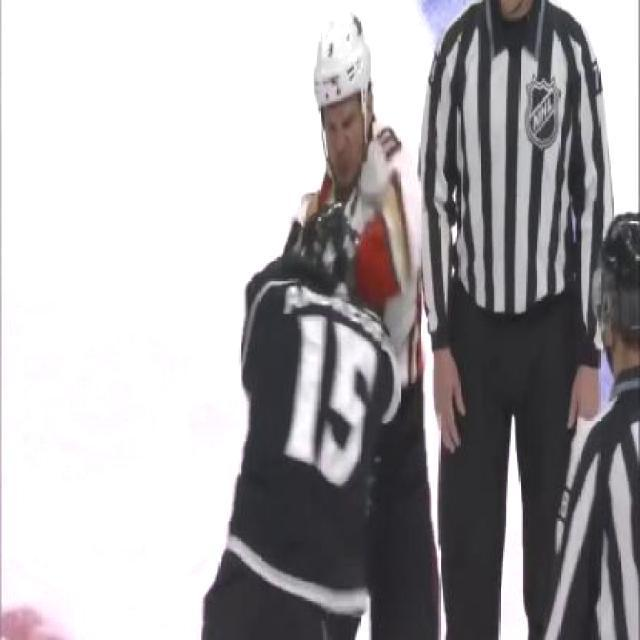fight: (237, 0, 428, 638)
